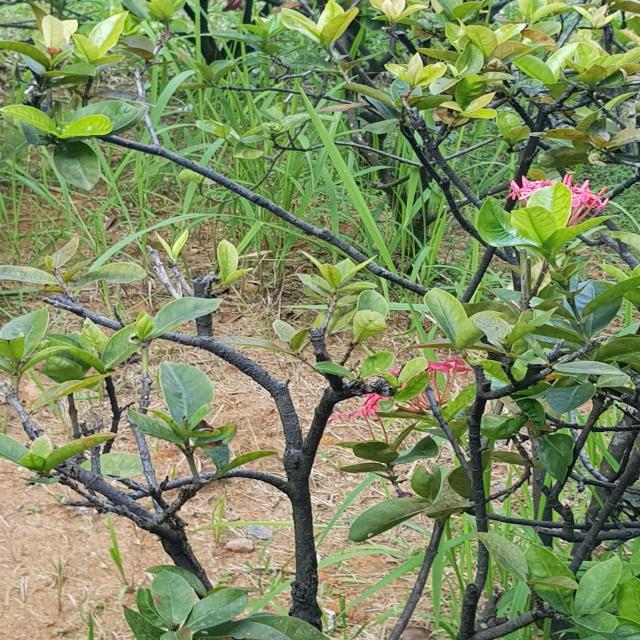Chinese-Ixora: (324, 357, 476, 426), (503, 172, 612, 229)
